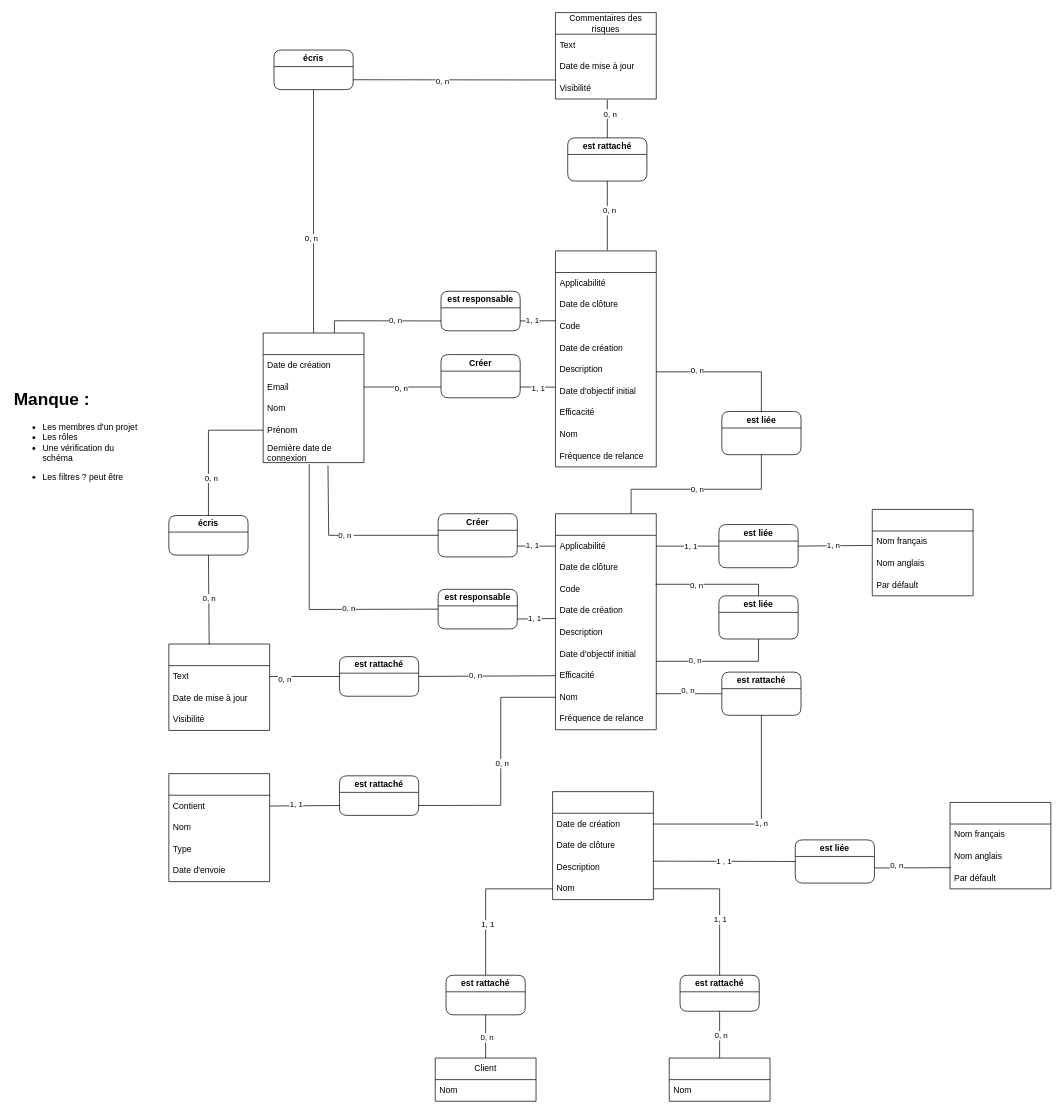
Image size: 1063x1114. Some labels were removed from this diagram. The shapes that lost their labels are listed below. From the top down, each one's box as (x1, y1, x2, y2) in pixels, then its label:
(555, 250, 656, 467): Risque
(262, 332, 364, 463): Utilisateur
(872, 509, 973, 596): Types d'action
(555, 513, 656, 730): Action
(168, 643, 270, 730): Commentaires des actions
(168, 773, 270, 882): Piece jointe
(552, 791, 653, 900): Projet
(949, 802, 1051, 889): Types de projet
(669, 1057, 770, 1101): Agence
